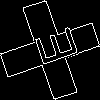E: (25, 25, 79, 71)
